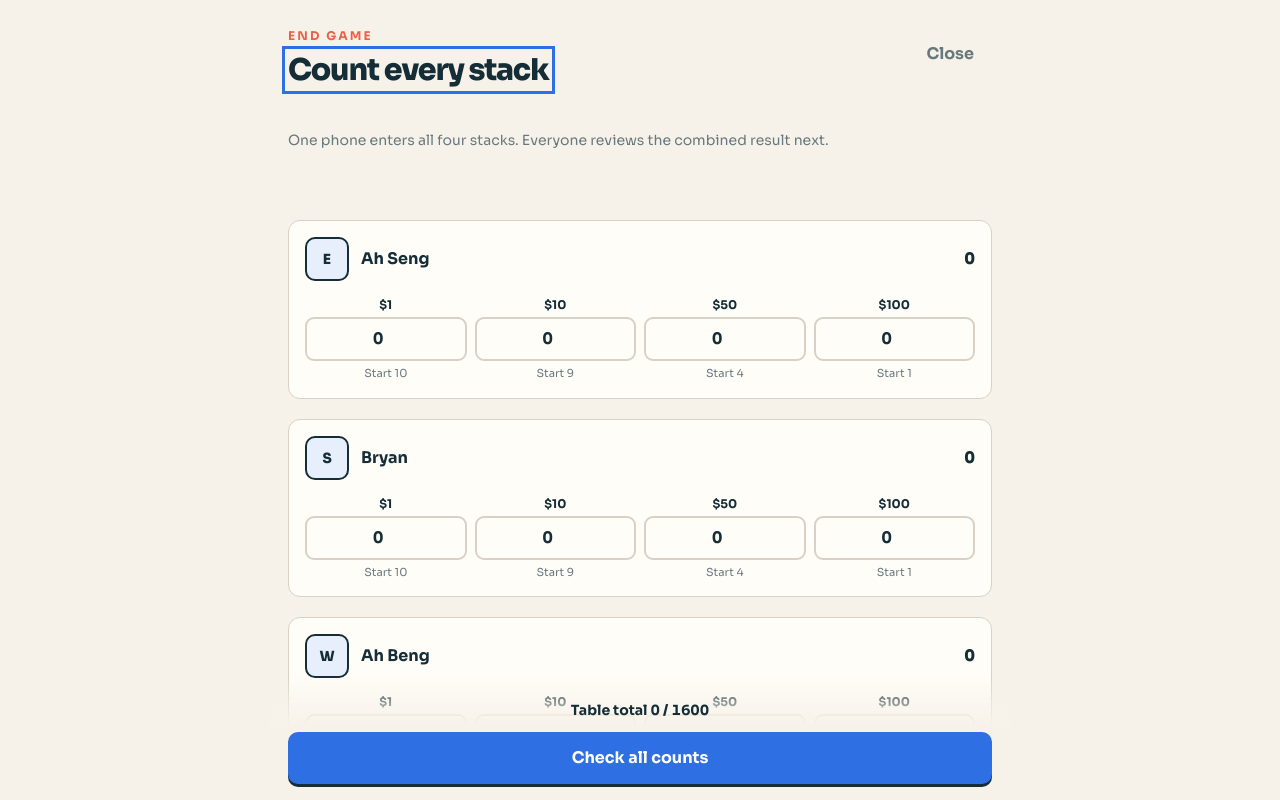
Test: ChipEndFlow count entry › preserves edited input and restores the action after a resolved action error
This screenshot has width=1280, height=800.
Expected: the button "Check all counts" is enabled, [288,732,992,784]
Replace the text in the number field named "Bryan · South · $10 chips" with "23". click: (555, 538)
box: [474,516,636,560]
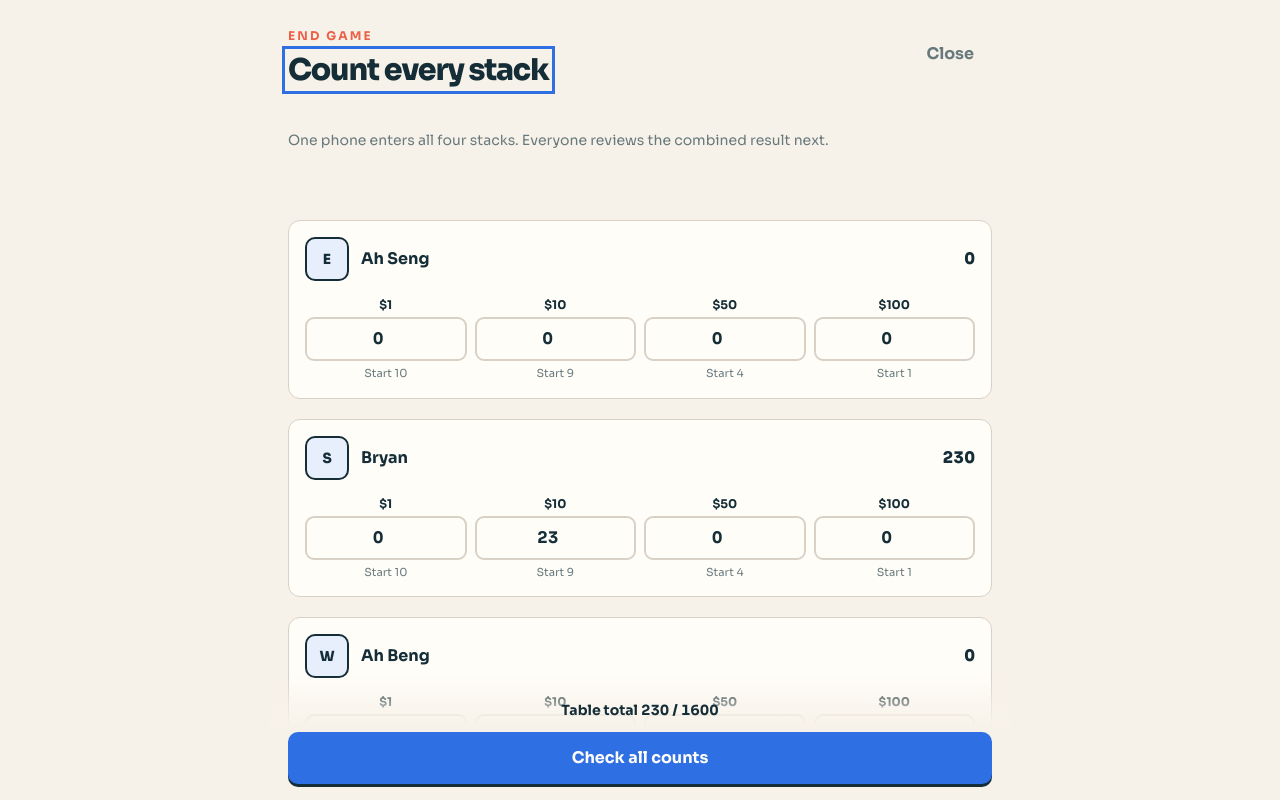
Click the button "Check all counts". click: (640, 758)
box: [288,732,992,784]
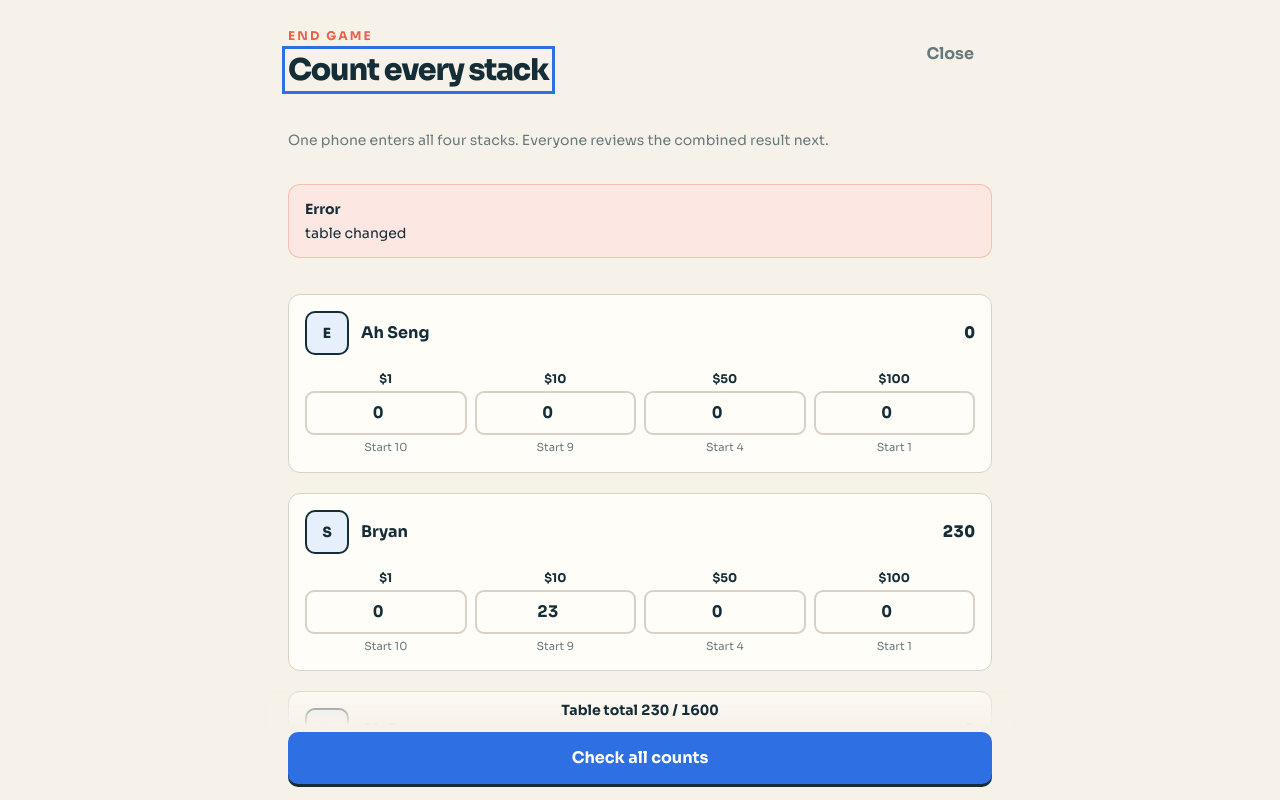
Expected: the message shows "table changed", [305,224,406,242]
